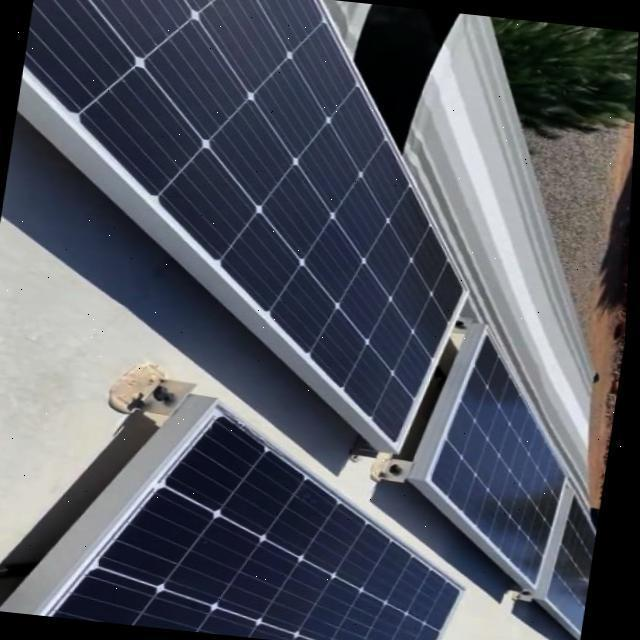Normal Solar Panel: (0, 0, 509, 458), (28, 383, 494, 640), (403, 323, 628, 640)
